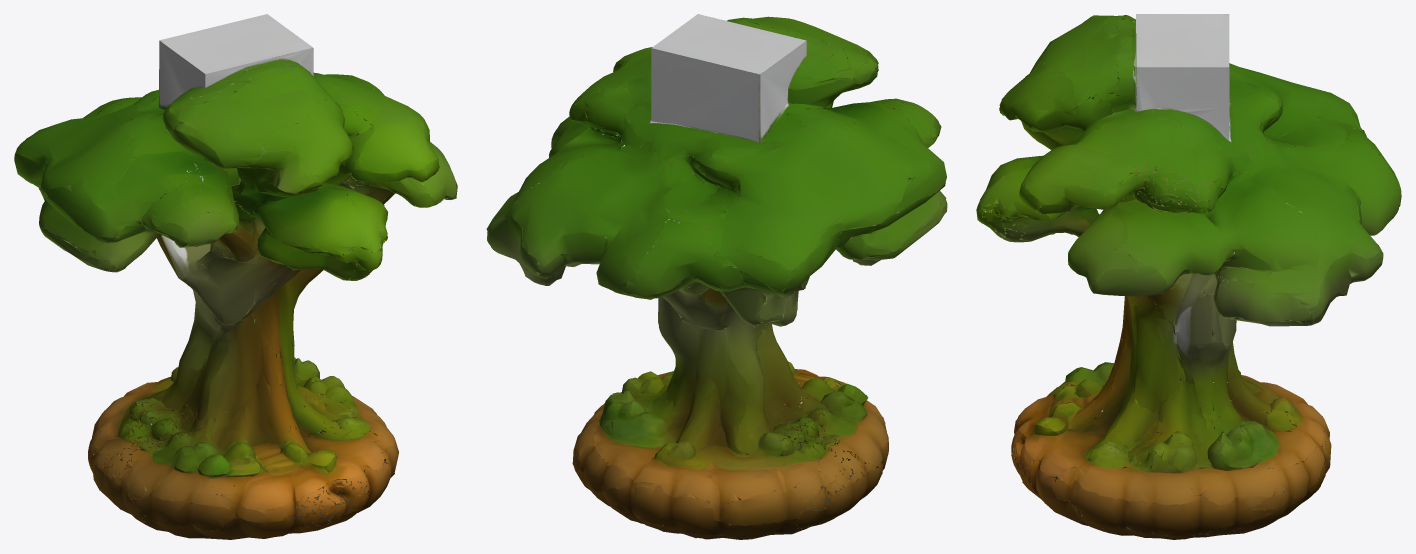
File: hunyuan-baobab.glb
The picture shows the model from 3 angles, left to right: view 1: azimuth 30°, elevation 25°; view 2: azimuth 150°, elevation 25°; view 3: azimuth 270°, elevation 25°; orthographic projection.
Parts seen in each view (by area): view 1: node_0; view 2: node_0; view 3: node_0.
Boxes of the visible parts, box(x1,y1,x2,y2) form: node_0: box(14, 14, 457, 539); node_0: box(486, 14, 947, 539); node_0: box(976, 14, 1401, 539).
Bounding box in the file's own units: 0.911 × 1.04 × 0.8995.
Materials: 1 (1 with a texture image).
